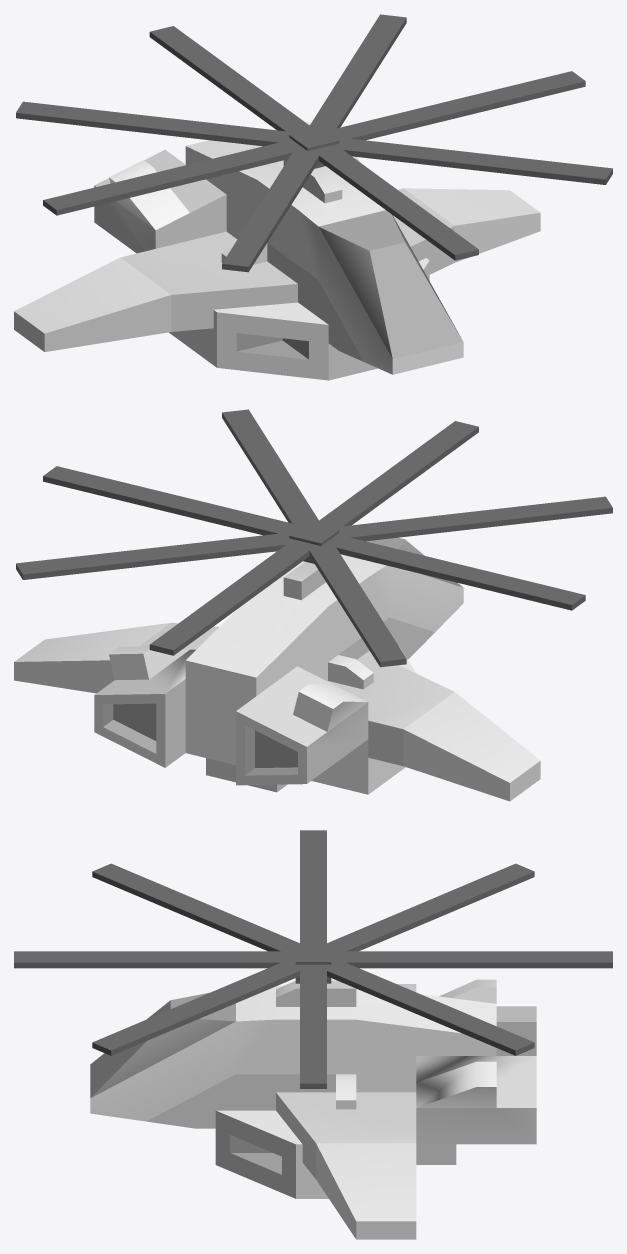
File: hub_drone.glb
3 views of the same model, one above another, from view 1: azimuth 30°, elevation 25°; view 2: azimuth 150°, elevation 25°; view 3: azimuth 270°, elevation 25° (orthographic).
Parts seen in each view (by area): view 1: Body, Rotor; view 2: Body, Rotor; view 3: Body, Rotor.
Part boxes in pixels (x1,y1,x2,y2): Body: (14,122,540,380); Rotor: (16,14,612,272); Body: (14,537,540,801); Rotor: (16,409,612,667); Body: (90,979,536,1239); Rotor: (14,830,612,1088).
Size of the model in its own units: 6.4 by 2.28 by 6.4.
2 materials, 1 textured.
